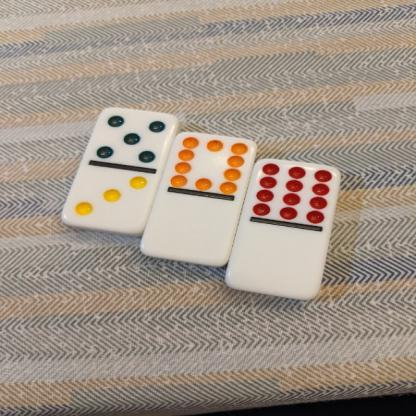pip-10: (170, 132, 249, 198)
pip-12: (251, 158, 339, 228)
pip-3: (61, 167, 146, 233)
pip-5: (95, 106, 173, 169)
